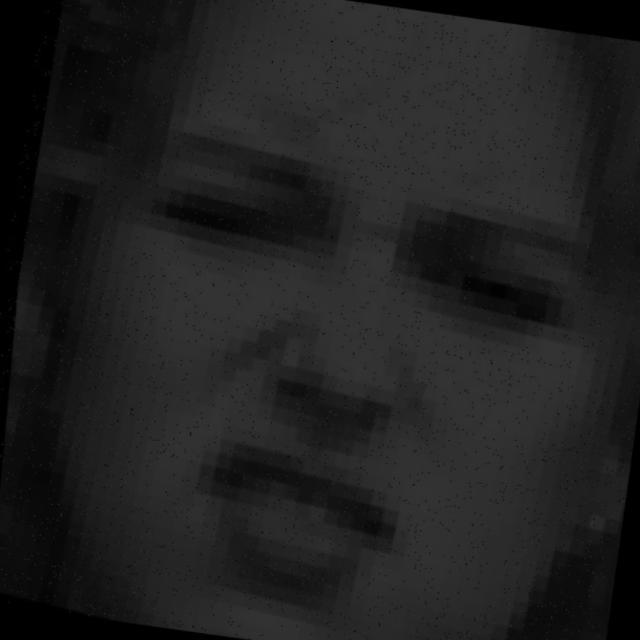Disgust: (44, 124, 640, 622)
